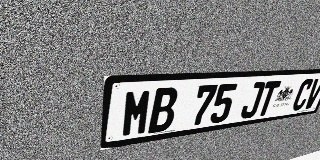5: (209, 83, 238, 124)
7: (189, 84, 218, 127)
B: (148, 87, 179, 134)
C: (290, 79, 315, 111)
J: (239, 82, 266, 119)
M: (121, 88, 153, 138)
T: (255, 81, 281, 117)
V: (302, 78, 320, 109)
